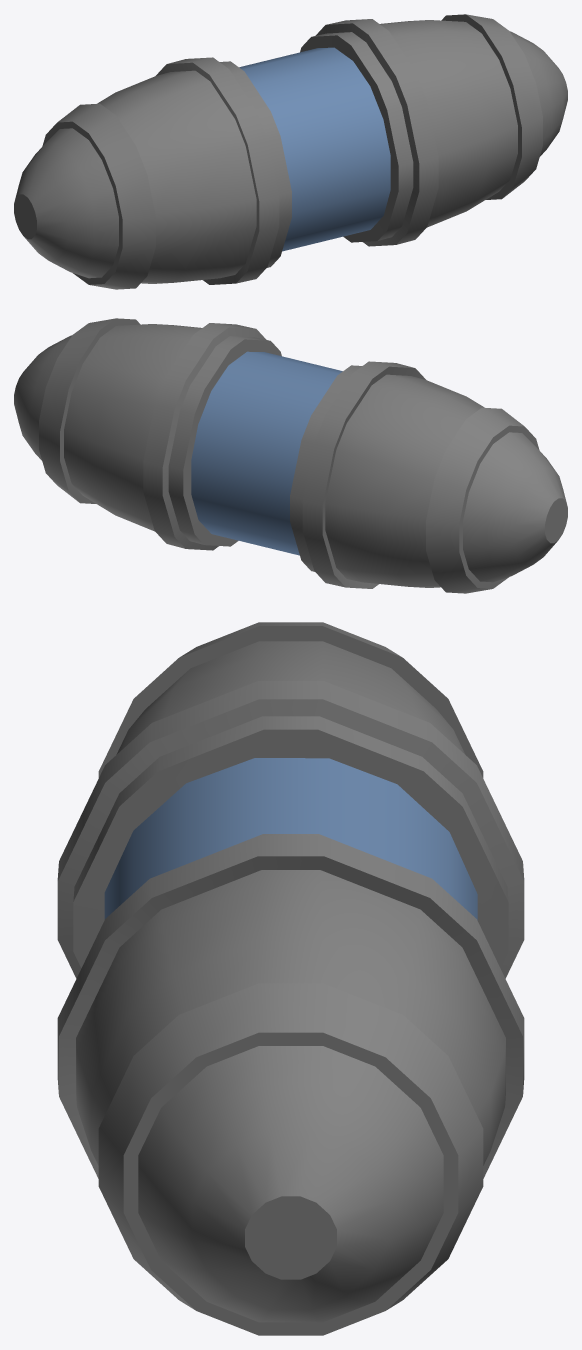
The model's file is Seringue.fbx.
The picture shows the model from 3 angles, top to bottom: view 1: azimuth 30°, elevation 25°; view 2: azimuth 150°, elevation 25°; view 3: azimuth 270°, elevation 25°; orthographic projection. The views are drawn at different scales.
Parts seen in each view (by area): view 1: Seringue; view 2: Seringue; view 3: Seringue.
Boxes of the visible parts, x1=… form: Seringue: x1=14, y1=14, x2=567, y2=289; Seringue: x1=14, y1=318, x2=567, y2=593; Seringue: x1=57, y1=622, x2=524, y2=1335.
Size of the model in its own units: 16.03 by 6.11 by 6.11.
